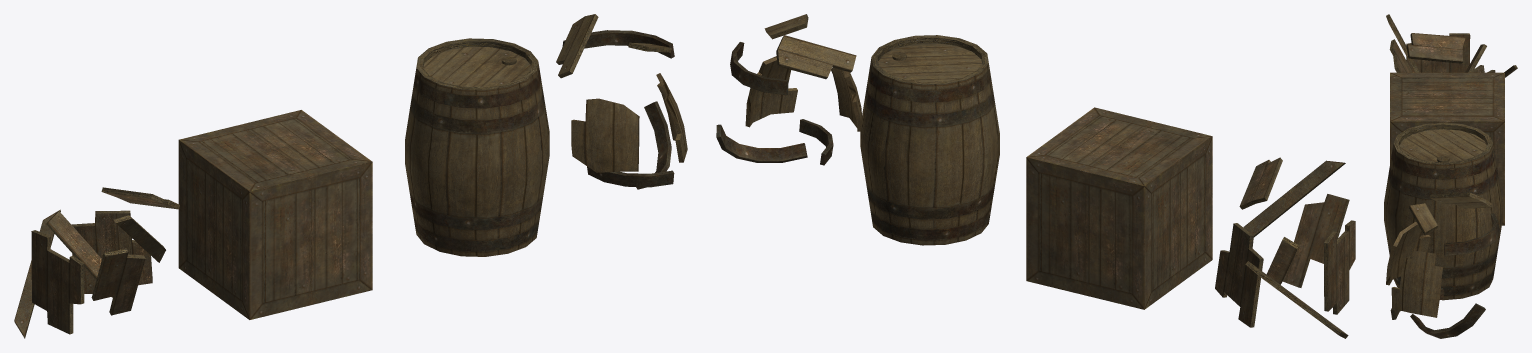
Rendered from barrel__crate.glb.
3 renders of one model, left to right at view 1: azimuth 30°, elevation 25°; view 2: azimuth 150°, elevation 25°; view 3: azimuth 270°, elevation 25°, orthographic. The views are drawn at different scales.
Visible parts, largest first — view 1: crate, barrel, barrelpiece, cratepiece_6, cratepiece_7, cratepiece_5, cratepiece_4, barrelpiece_6, barrelpiece_4, barrelpiece_3, barrelpiece_5, barrelpiece_2 (+3 smaller); view 2: crate, barrel, cratepiece_7, cratepiece_5, cratepiece_6, barrelpiece_6, barrelpiece_2, cratepiece, barrelpiece_5, barrelpiece_4, cratepiece_3, barrelpiece (+4 smaller); view 3: barrel, crate, barrelpiece_2, cratepiece_3, barrelpiece, cratepiece_6, barrelpiece_4, barrelpiece_5, barrelpiece_6, barrelpiece_7, cratepiece_5, cratepiece (+2 smaller).
Part boxes in pixels (box(x1,y1,x2,y2)): crate: box(178, 110, 372, 319); barrel: box(405, 38, 549, 256); barrelpiece: box(571, 98, 639, 172); cratepiece_6: box(31, 230, 84, 334); cratepiece_7: box(71, 210, 152, 293); cratepiece_5: box(91, 248, 145, 315); cratepiece_4: box(46, 211, 113, 297); barrelpiece_6: box(556, 14, 598, 78); barrelpiece_4: box(562, 30, 674, 58); barrelpiece_3: box(587, 166, 674, 187); barrelpiece_5: box(636, 101, 671, 189); barrelpiece_2: box(656, 73, 687, 162); crate: box(1026, 107, 1212, 309); barrel: box(860, 35, 999, 245); cratepiece_7: box(1215, 223, 1263, 327); cratepiece_5: box(1282, 194, 1349, 287); cratepiece_6: box(1324, 220, 1355, 314); barrelpiece_6: box(776, 35, 856, 79); barrelpiece_2: box(745, 56, 797, 127); cratepiece: box(1243, 160, 1345, 237); barrelpiece_5: box(716, 124, 807, 162); barrelpiece_4: box(730, 42, 788, 95); cratepiece_3: box(1239, 157, 1282, 209); barrelpiece: box(831, 67, 861, 131); barrel: box(1384, 122, 1502, 300); crate: box(1390, 72, 1504, 225); barrelpiece_2: box(1391, 250, 1442, 317); cratepiece_3: box(1406, 33, 1465, 63); barrelpiece: box(1386, 222, 1430, 285); cratepiece_6: box(1406, 33, 1470, 72); barrelpiece_4: box(1444, 213, 1499, 255); barrelpiece_5: box(1410, 303, 1485, 338); barrelpiece_6: box(1429, 192, 1492, 208); barrelpiece_7: box(1409, 203, 1437, 234); cratepiece_5: box(1389, 39, 1412, 72); cratepiece: box(1386, 14, 1420, 72).
Size of the model in its own units: 7.92 by 2.1 by 1.75.
Materials: 1 (1 with a texture image).
